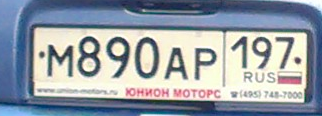character: (77, 33, 103, 77), (105, 35, 131, 79), (134, 36, 160, 80), (45, 44, 75, 80), (193, 42, 219, 80), (165, 47, 189, 81), (251, 35, 273, 71), (231, 36, 250, 71), (275, 36, 295, 68)
